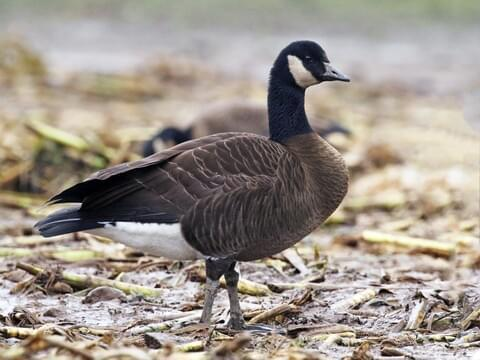Canadian-Goose: (48, 39, 357, 331)
